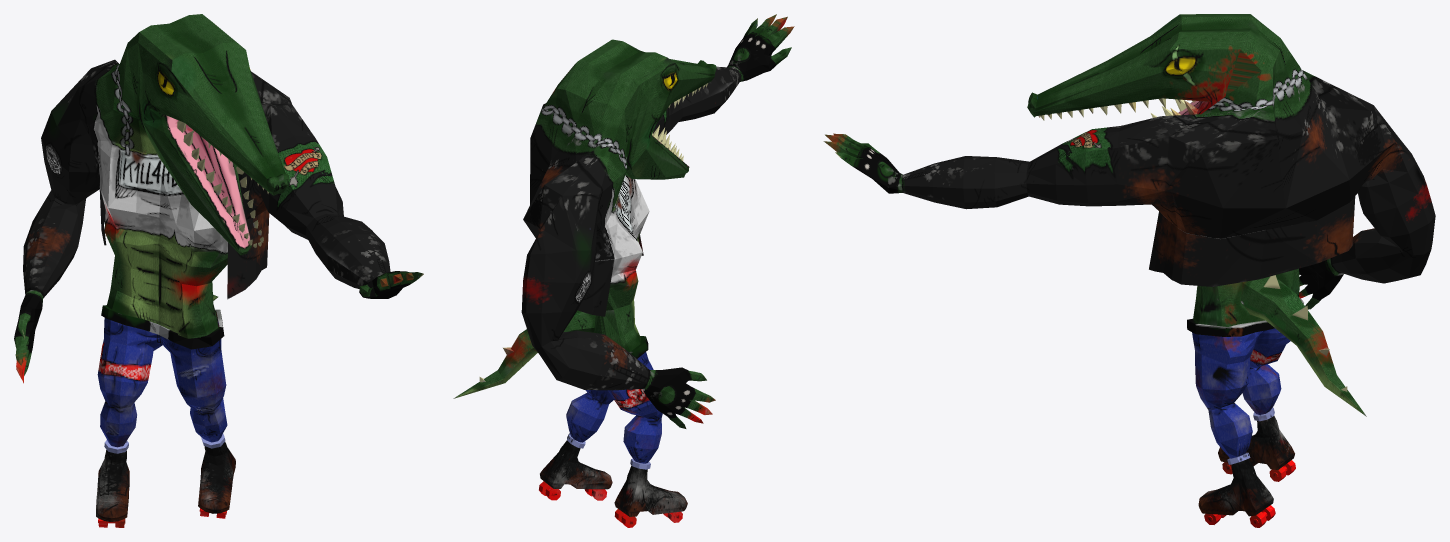
File: cocodrilaBonesSelect_000020.obj
3 views of the same model, side by side, from view 1: azimuth 30°, elevation 25°; view 2: azimuth 150°, elevation 25°; view 3: azimuth 270°, elevation 25° (orthographic). The views are drawn at different scales.
Visible parts, largest first — view 1: Crocodile.002_Cylinder.002; view 2: Crocodile.002_Cylinder.002; view 3: Crocodile.002_Cylinder.002.
Boxes of the visible parts, x1,y1,x2,y2 form: Crocodile.002_Cylinder.002: (14,14,423,527); Crocodile.002_Cylinder.002: (453,14,794,527); Crocodile.002_Cylinder.002: (823,14,1435,527).
Size of the model in its own units: 3.44 by 6.63 by 7.59.
